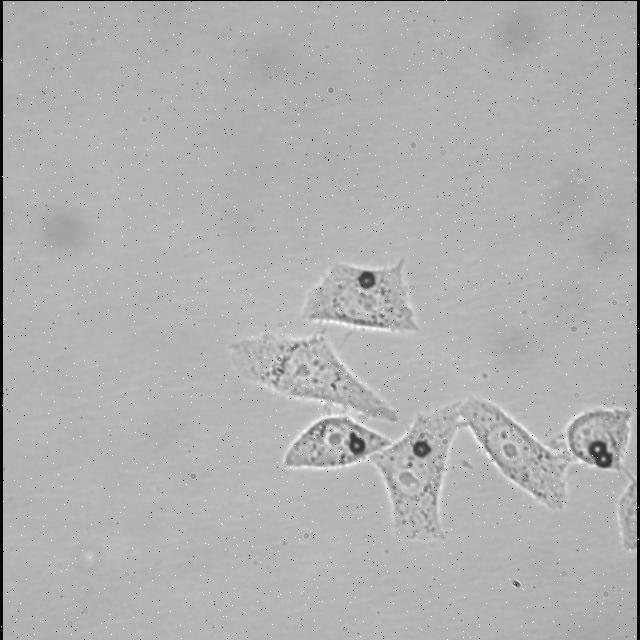microbeads: (346, 430, 366, 456), (592, 451, 616, 471), (358, 268, 377, 288), (412, 438, 431, 458), (588, 440, 606, 456)
